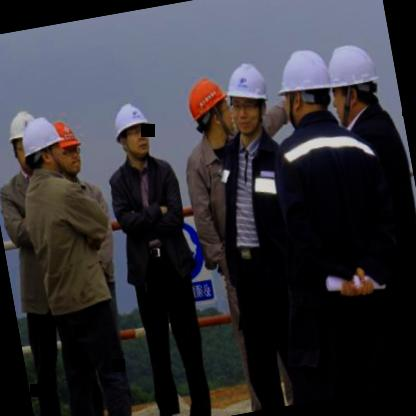helmet: (312, 35, 384, 124), (274, 44, 348, 130), (182, 70, 240, 152), (221, 54, 276, 136), (106, 94, 159, 168), (21, 114, 74, 182), (42, 116, 87, 176), (4, 106, 40, 174)
